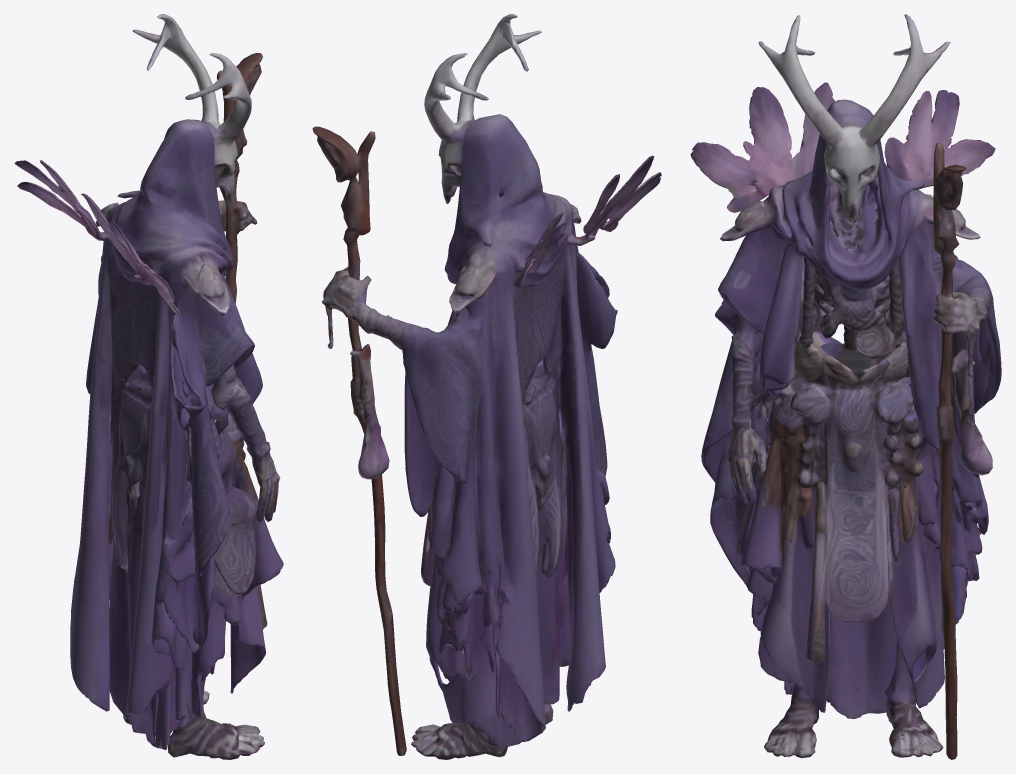
File: mageenemy01.glb
The picture shows the model from 3 angles, left to right: view 1: azimuth 30°, elevation 25°; view 2: azimuth 150°, elevation 25°; view 3: azimuth 270°, elevation 25°; orthographic projection. The views are drawn at different scales.
Visible parts, largest first — view 1: tripo_node_7cd4d5c5-9939-4eac-97fc-03c010fe308c; view 2: tripo_node_7cd4d5c5-9939-4eac-97fc-03c010fe308c; view 3: tripo_node_7cd4d5c5-9939-4eac-97fc-03c010fe308c.
Part boxes in pixels (left/top/right/bottom): tripo_node_7cd4d5c5-9939-4eac-97fc-03c010fe308c: left=14, top=14, right=283, bottom=759; tripo_node_7cd4d5c5-9939-4eac-97fc-03c010fe308c: left=312, top=14, right=661, bottom=759; tripo_node_7cd4d5c5-9939-4eac-97fc-03c010fe308c: left=690, top=14, right=1001, bottom=759.
Bounding box in the file's own units: 0.3704 × 1 × 0.3885.
1 material, 1 textured.
